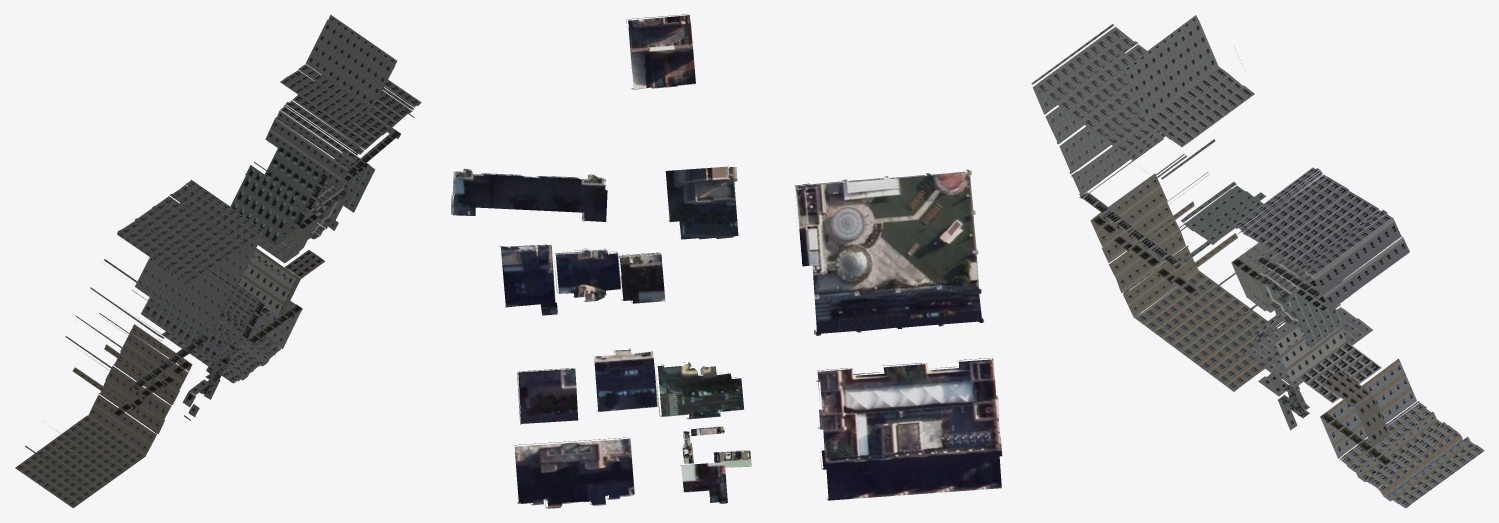
File: tile_LOD4_r6_c13.glb
3 views of the same model, side by side, from view 1: azimuth 30°, elevation 25°; view 2: azimuth 150°, elevation 25°; view 3: azimuth 270°, elevation 25° (orthographic). The views are drawn at different scales.
Bounding box in the file's own units: 213 × 181 × 161.
74 materials, 74 textured.
